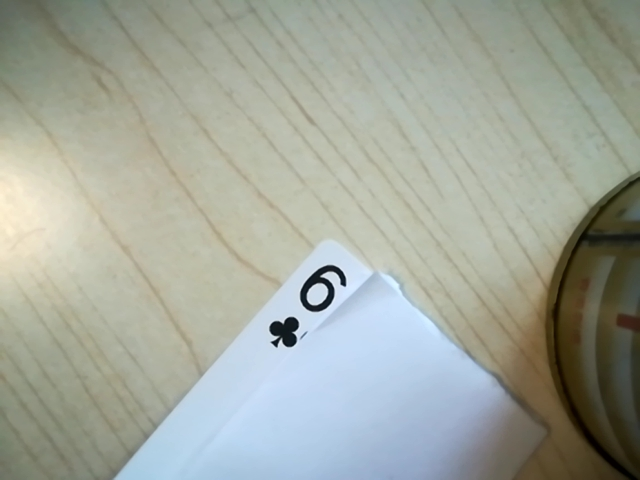mh 6: (260, 261, 361, 351)
